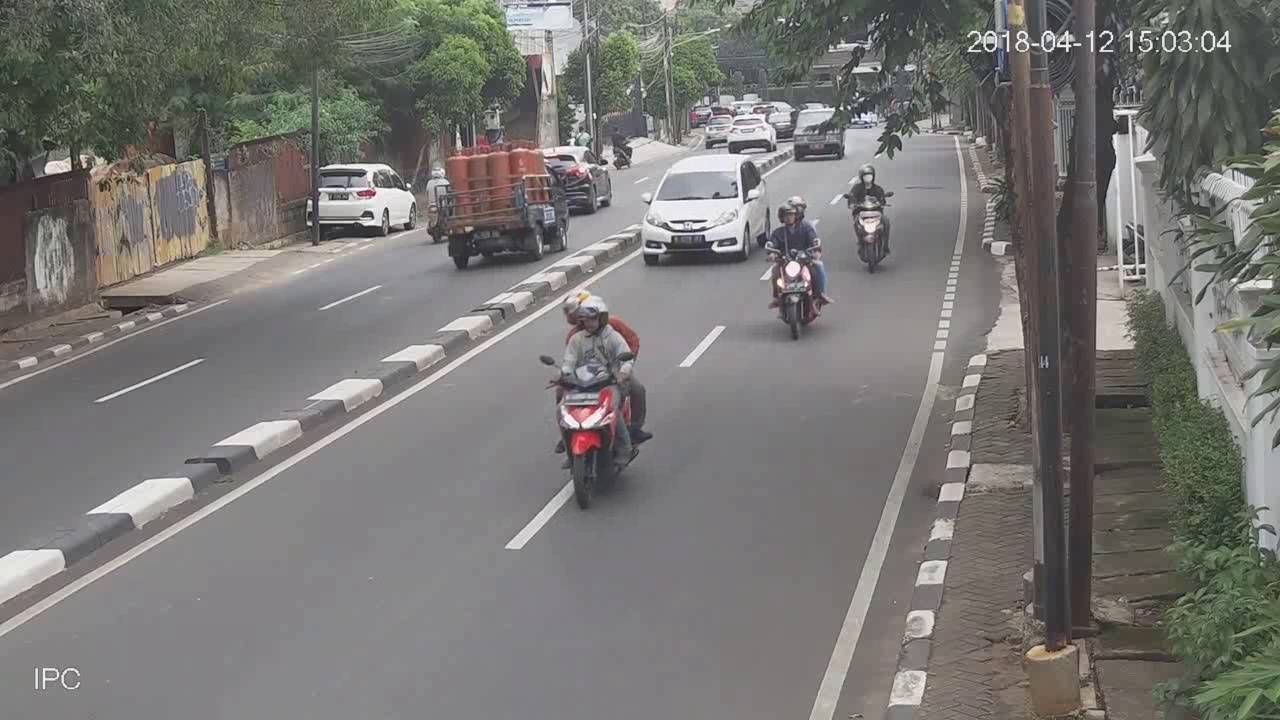car: (638, 155, 773, 266), (305, 161, 418, 238), (546, 143, 615, 214), (797, 111, 845, 164), (730, 114, 777, 154)
motorcycle: (537, 285, 662, 511), (766, 197, 834, 346), (842, 157, 901, 276)
truck: (435, 146, 580, 266)
